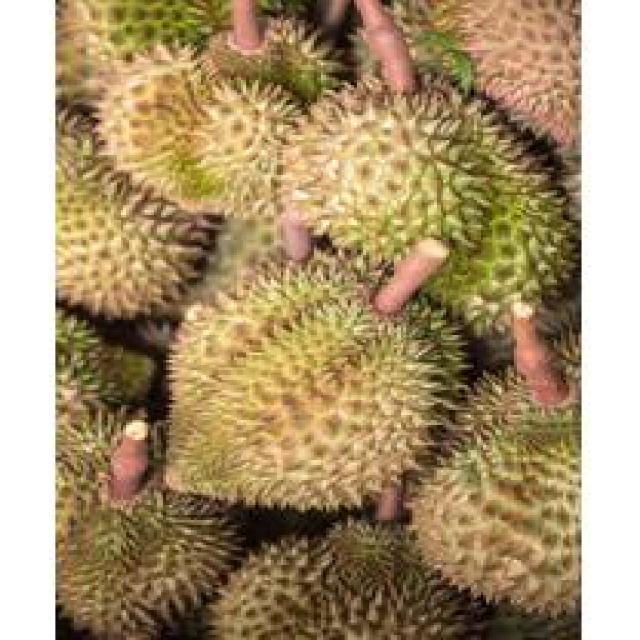fruit: (142, 240, 456, 558), (390, 355, 584, 640), (182, 500, 502, 640), (55, 110, 234, 340), (55, 465, 262, 640)
